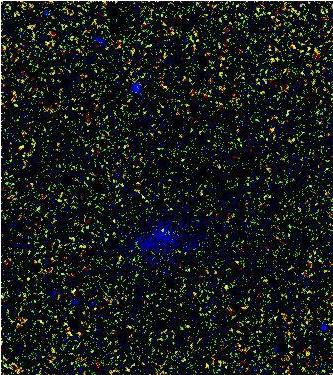star: (145, 213, 175, 243)
